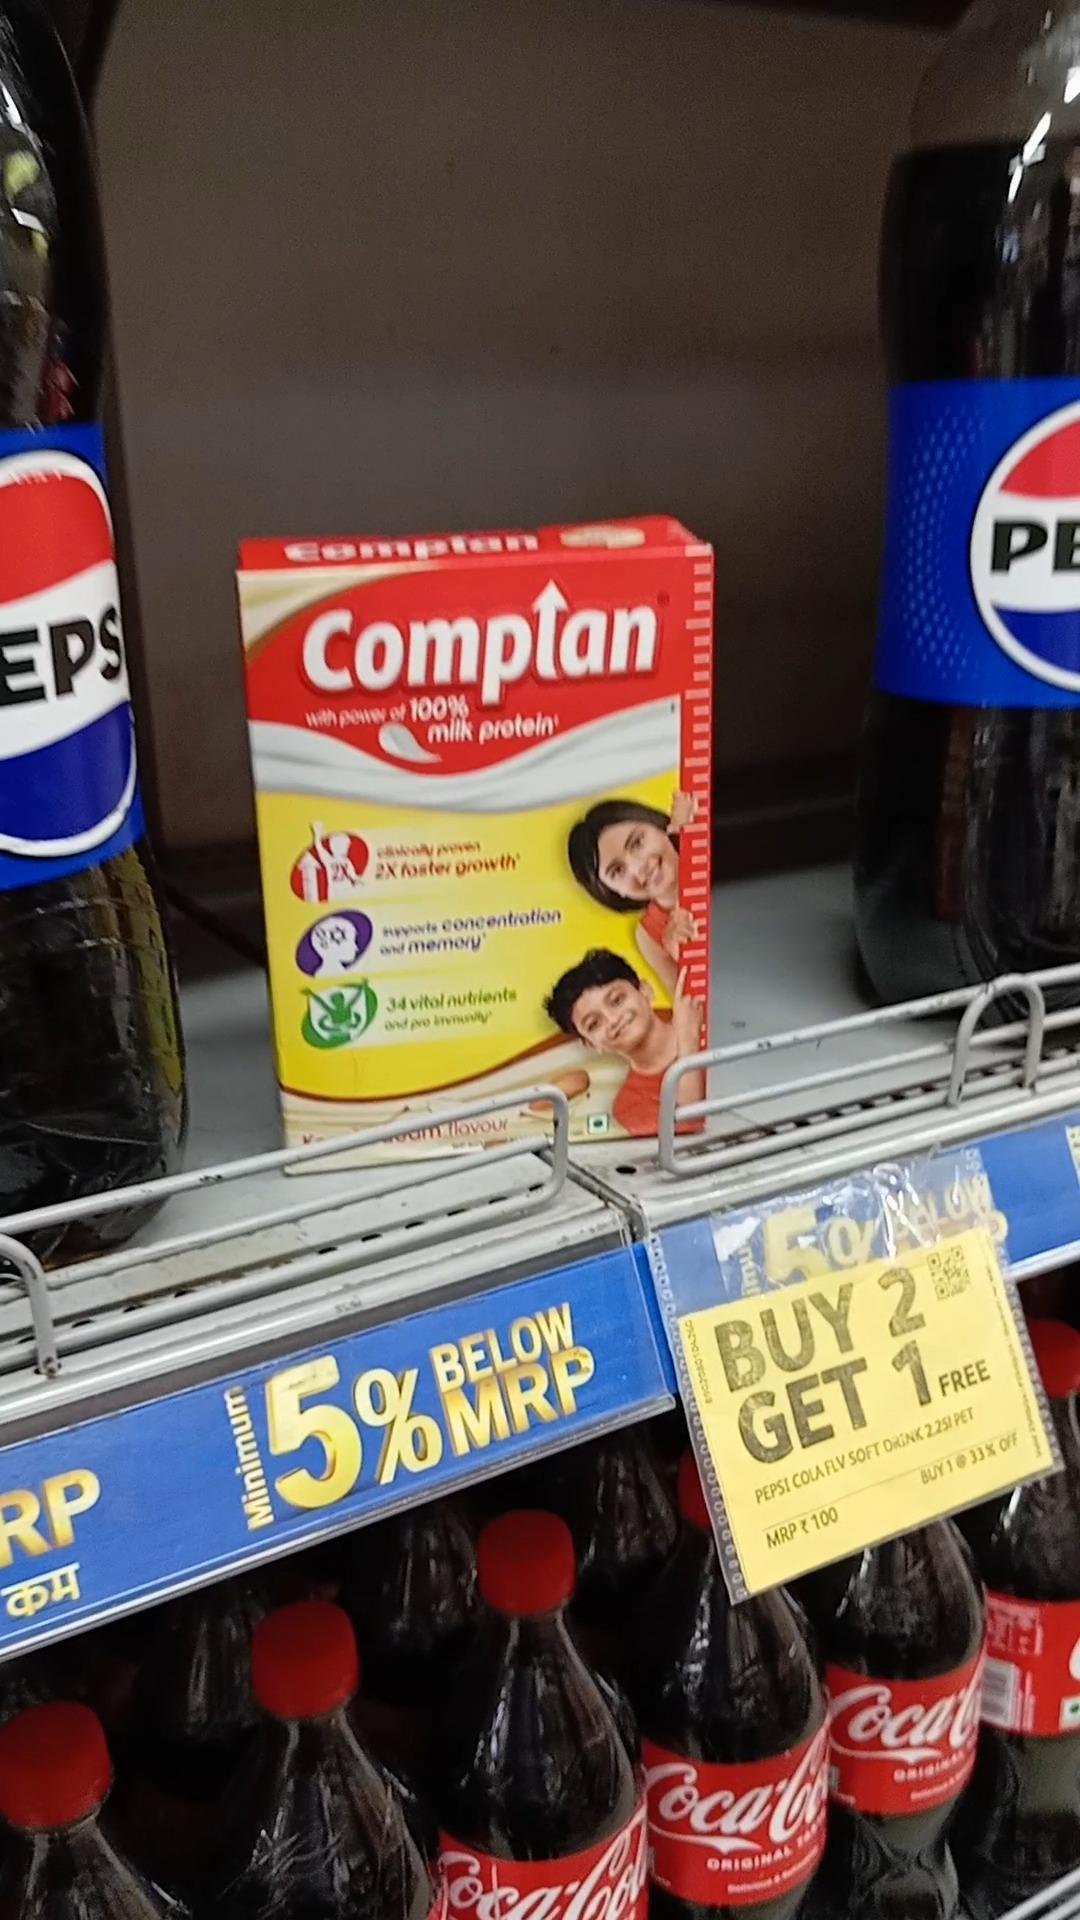COMPLAN_CHOCOLATE_200_GMS_JAR: (272, 560, 702, 1151)
